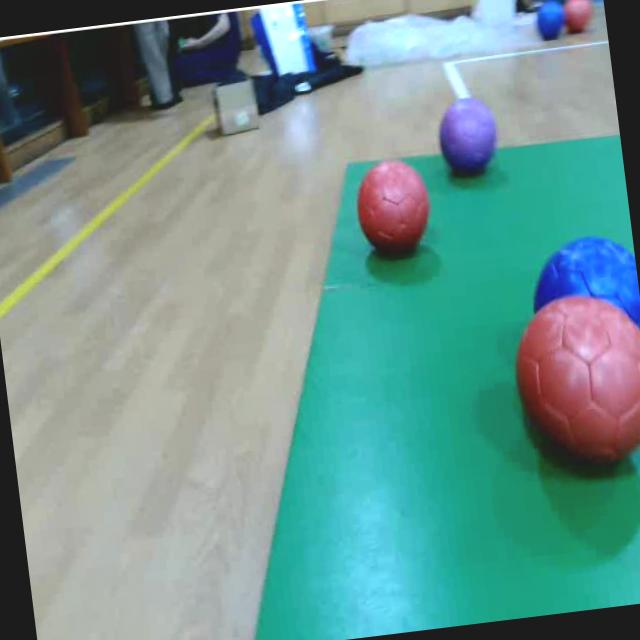blue_ball: (524, 224, 638, 301), (535, 0, 564, 42)
purple_ball: (433, 94, 502, 179)
red_ball: (503, 296, 640, 492), (350, 152, 435, 264), (561, 0, 593, 34)
